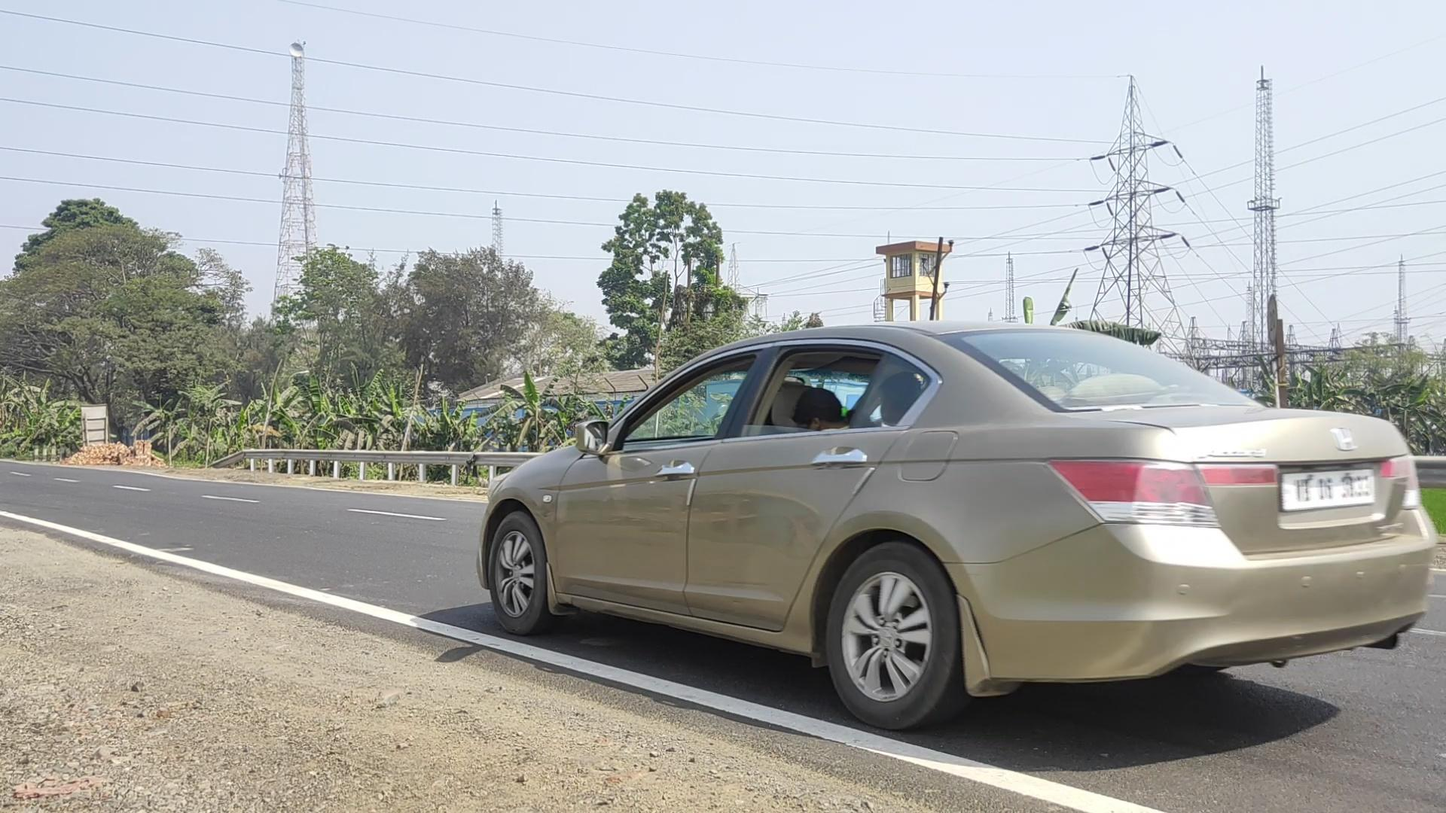car: (477, 321, 1437, 731)
